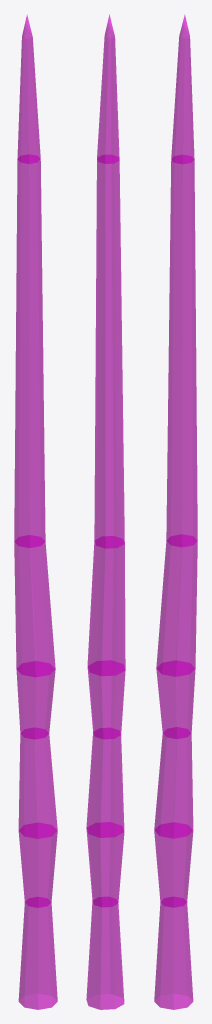
File: SM_Veh_Ship_L_Mast_Front_02_Collision.fbx
3 renders of one model, left to right at view 1: azimuth 90°, elevation 25°; view 2: azimuth 210°, elevation 25°; view 3: azimuth 270°, elevation 25°, orthographic.
Visible parts, largest first — view 1: SM_Veh_Ship_L_Mast_Front_02_Collision; view 2: SM_Veh_Ship_L_Mast_Front_02_Collision; view 3: SM_Veh_Ship_L_Mast_Front_02_Collision.
Part boxes in pixels (box(x1,y1,x2,y2)): SM_Veh_Ship_L_Mast_Front_02_Collision: box(14, 14, 57, 1009); SM_Veh_Ship_L_Mast_Front_02_Collision: box(86, 14, 125, 1009); SM_Veh_Ship_L_Mast_Front_02_Collision: box(154, 14, 197, 1009).
Size of the model in its own units: 129 by 3590 by 144.
